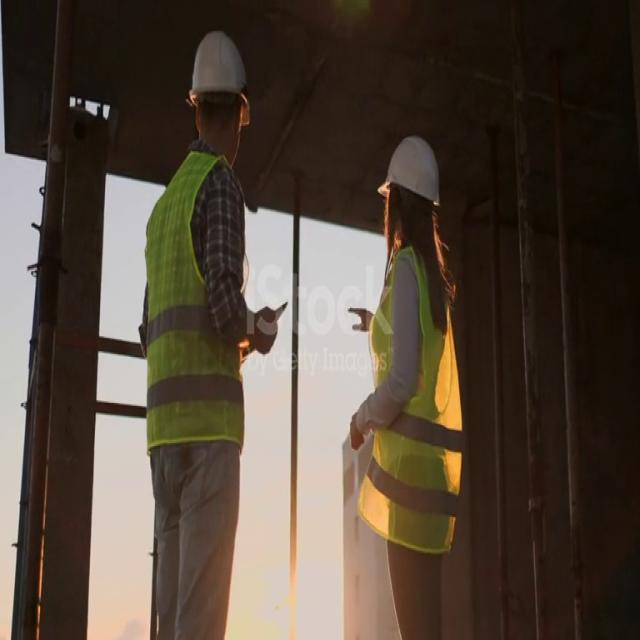capacete: (180, 26, 264, 138), (375, 130, 444, 215)
